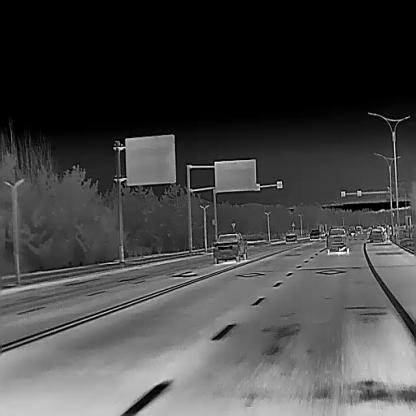car: (211, 231, 248, 262), (322, 226, 350, 253), (369, 228, 384, 241), (284, 231, 298, 243), (308, 229, 321, 240), (347, 225, 356, 237), (354, 224, 363, 233)
